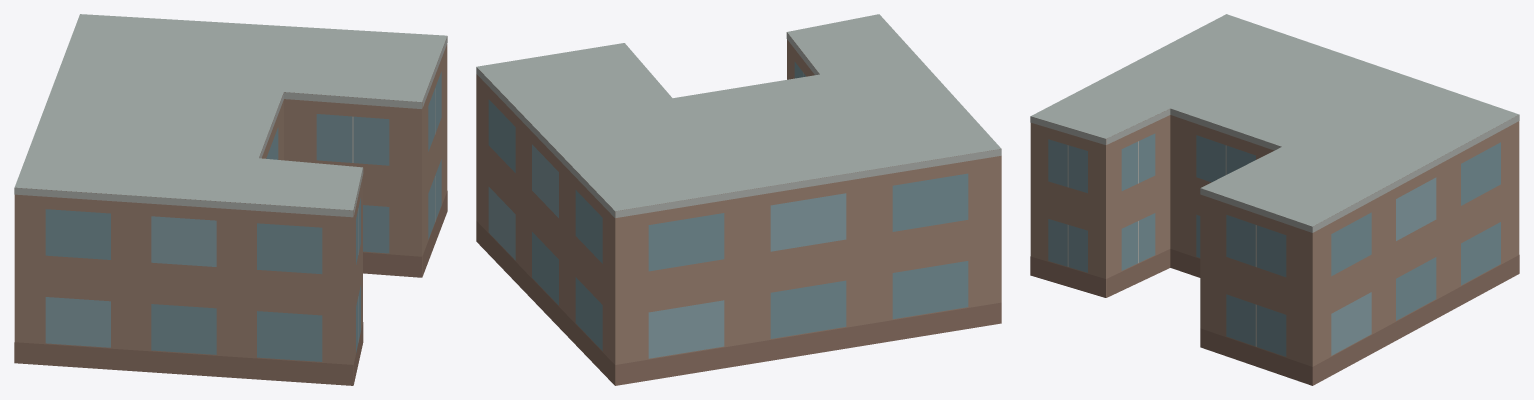
File: survey-upis-32732196.glb
3 renders of one model, left to right at view 1: azimuth 30°, elevation 25°; view 2: azimuth 150°, elevation 25°; view 3: azimuth 270°, elevation 25°, orthographic. The views are drawn at different scales.
Visible parts, largest first — view 1: survey-upis-32732196.tmp; view 2: survey-upis-32732196.tmp; view 3: survey-upis-32732196.tmp.
Part boxes in pixels (bbox=[...]): survey-upis-32732196.tmp: bbox=[14, 14, 447, 385]; survey-upis-32732196.tmp: bbox=[476, 14, 1001, 385]; survey-upis-32732196.tmp: bbox=[1030, 14, 1519, 385].
Bounding box in the file's own units: 17.48 × 6.1 × 16.98.
